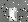person: (10, 9, 18, 22)
